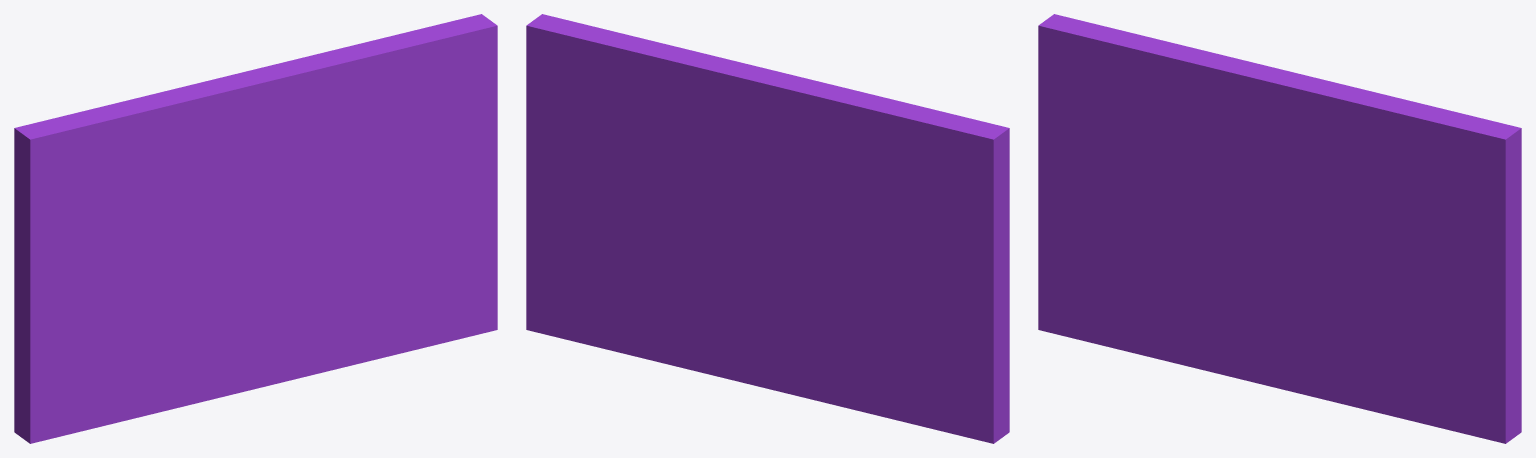
Rendered from Barrier_129_chunks.fbx.
3 views of the same model, side by side, from view 1: azimuth 30°, elevation 25°; view 2: azimuth 150°, elevation 25°; view 3: azimuth 330°, elevation 25° (orthographic).
Visible parts, largest first — view 1: Barrier_129_1, Barrier_129_2, Barrier_129_5, Barrier_129_4, Barrier_129_6, Barrier_129_0, Barrier_129_3; view 2: Barrier_129_1, Barrier_129_2, Barrier_129_5, Barrier_129_3, Barrier_129_4, Barrier_129_6; view 3: Barrier_129_1, Barrier_129_2, Barrier_129_5, Barrier_129_4, Barrier_129_6, Barrier_129_0, Barrier_129_3.
Boxes of the visible parts, x1,y1,x2,y2 form: Barrier_129_1: (290,14,497,357); Barrier_129_2: (14,57,322,330); Barrier_129_5: (14,287,185,443); Barrier_129_4: (152,295,384,414); Barrier_129_6: (136,243,287,328); Barrier_129_0: (240,137,299,257); Barrier_129_3: (244,257,325,302); Barrier_129_1: (526,14,762,359); Barrier_129_2: (704,56,1009,333); Barrier_129_5: (831,281,1009,443); Barrier_129_3: (672,237,841,345); Barrier_129_4: (647,332,857,410); Barrier_129_6: (793,250,865,300); Barrier_129_1: (1298,85,1521,443); Barrier_129_2: (1038,14,1343,231); Barrier_129_5: (1038,217,1193,359); Barrier_129_4: (1160,291,1392,416); Barrier_129_6: (1144,224,1295,292); Barrier_129_0: (1248,154,1307,270); Barrier_129_3: (1252,269,1333,325).
Size of the model in its own units: 462 by 288 by 27.2.
